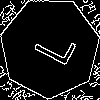L: (24, 23, 77, 68)
